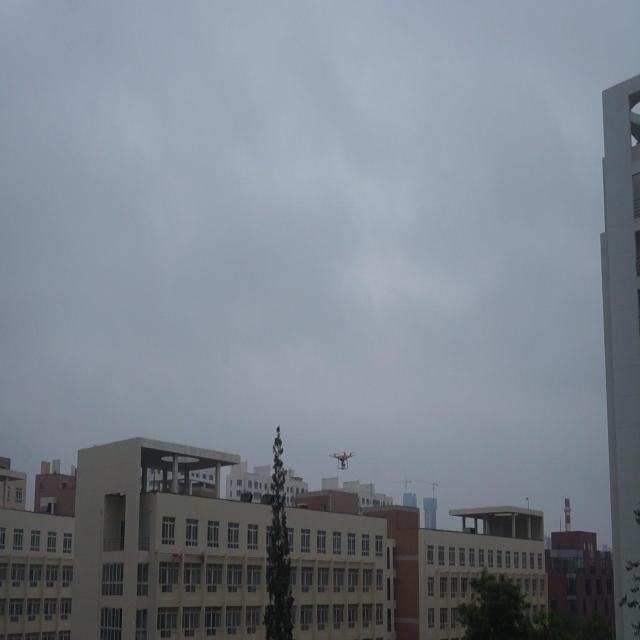drone: (330, 448, 355, 470)
